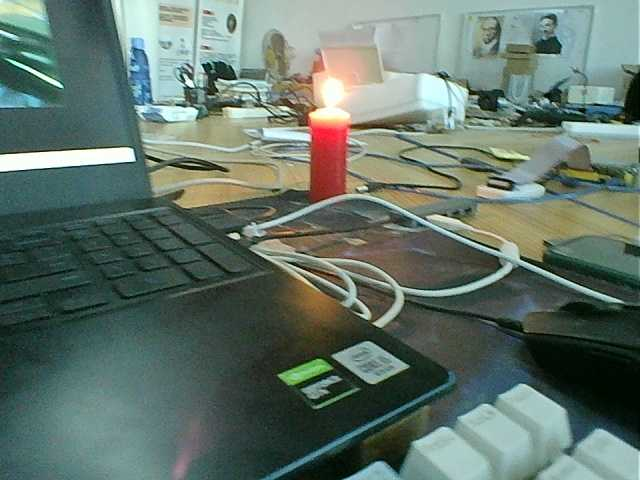candle: (306, 117, 351, 206)
fire: (315, 77, 356, 119)
